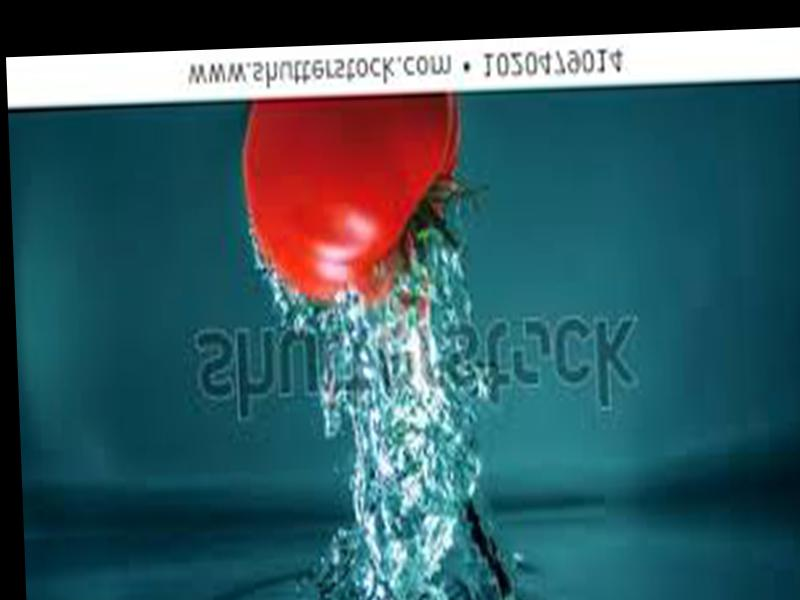Tomato: (241, 91, 467, 305)
